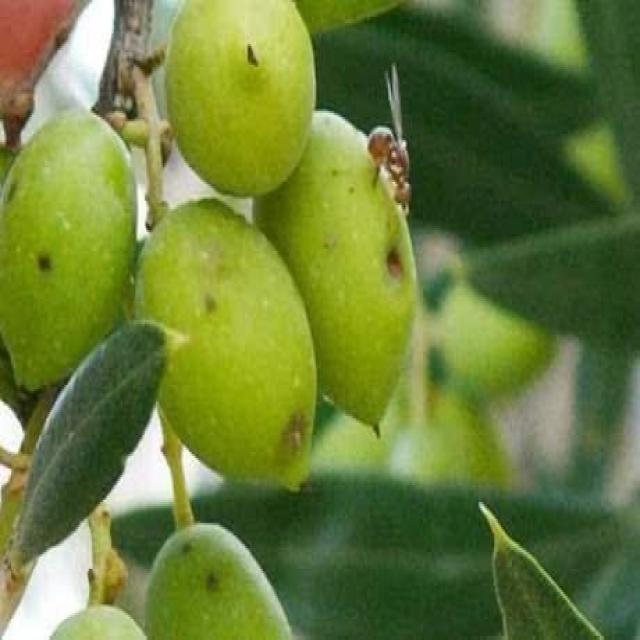Olive Fruit Fly: (256, 111, 418, 433), (139, 199, 316, 487), (0, 111, 136, 389)
